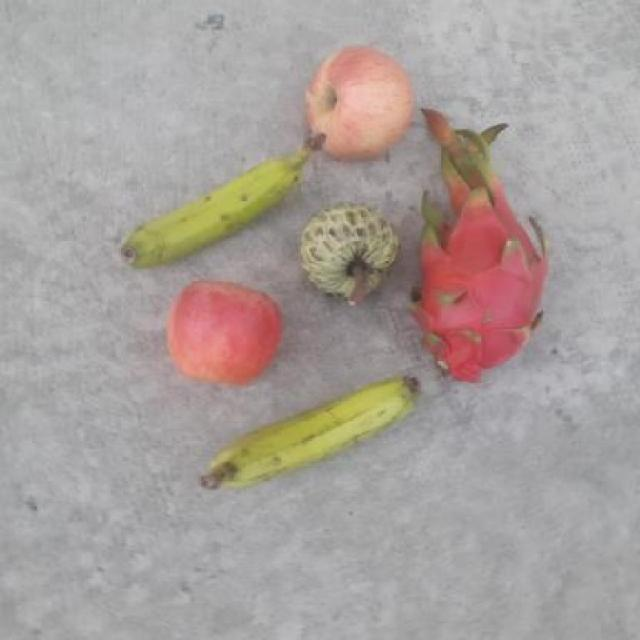apple: (164, 278, 288, 390), (305, 44, 418, 164)
banana: (116, 132, 333, 272), (197, 376, 421, 490)
dragon fruit: (406, 170, 552, 382)
sugar apple: (295, 198, 403, 310)
